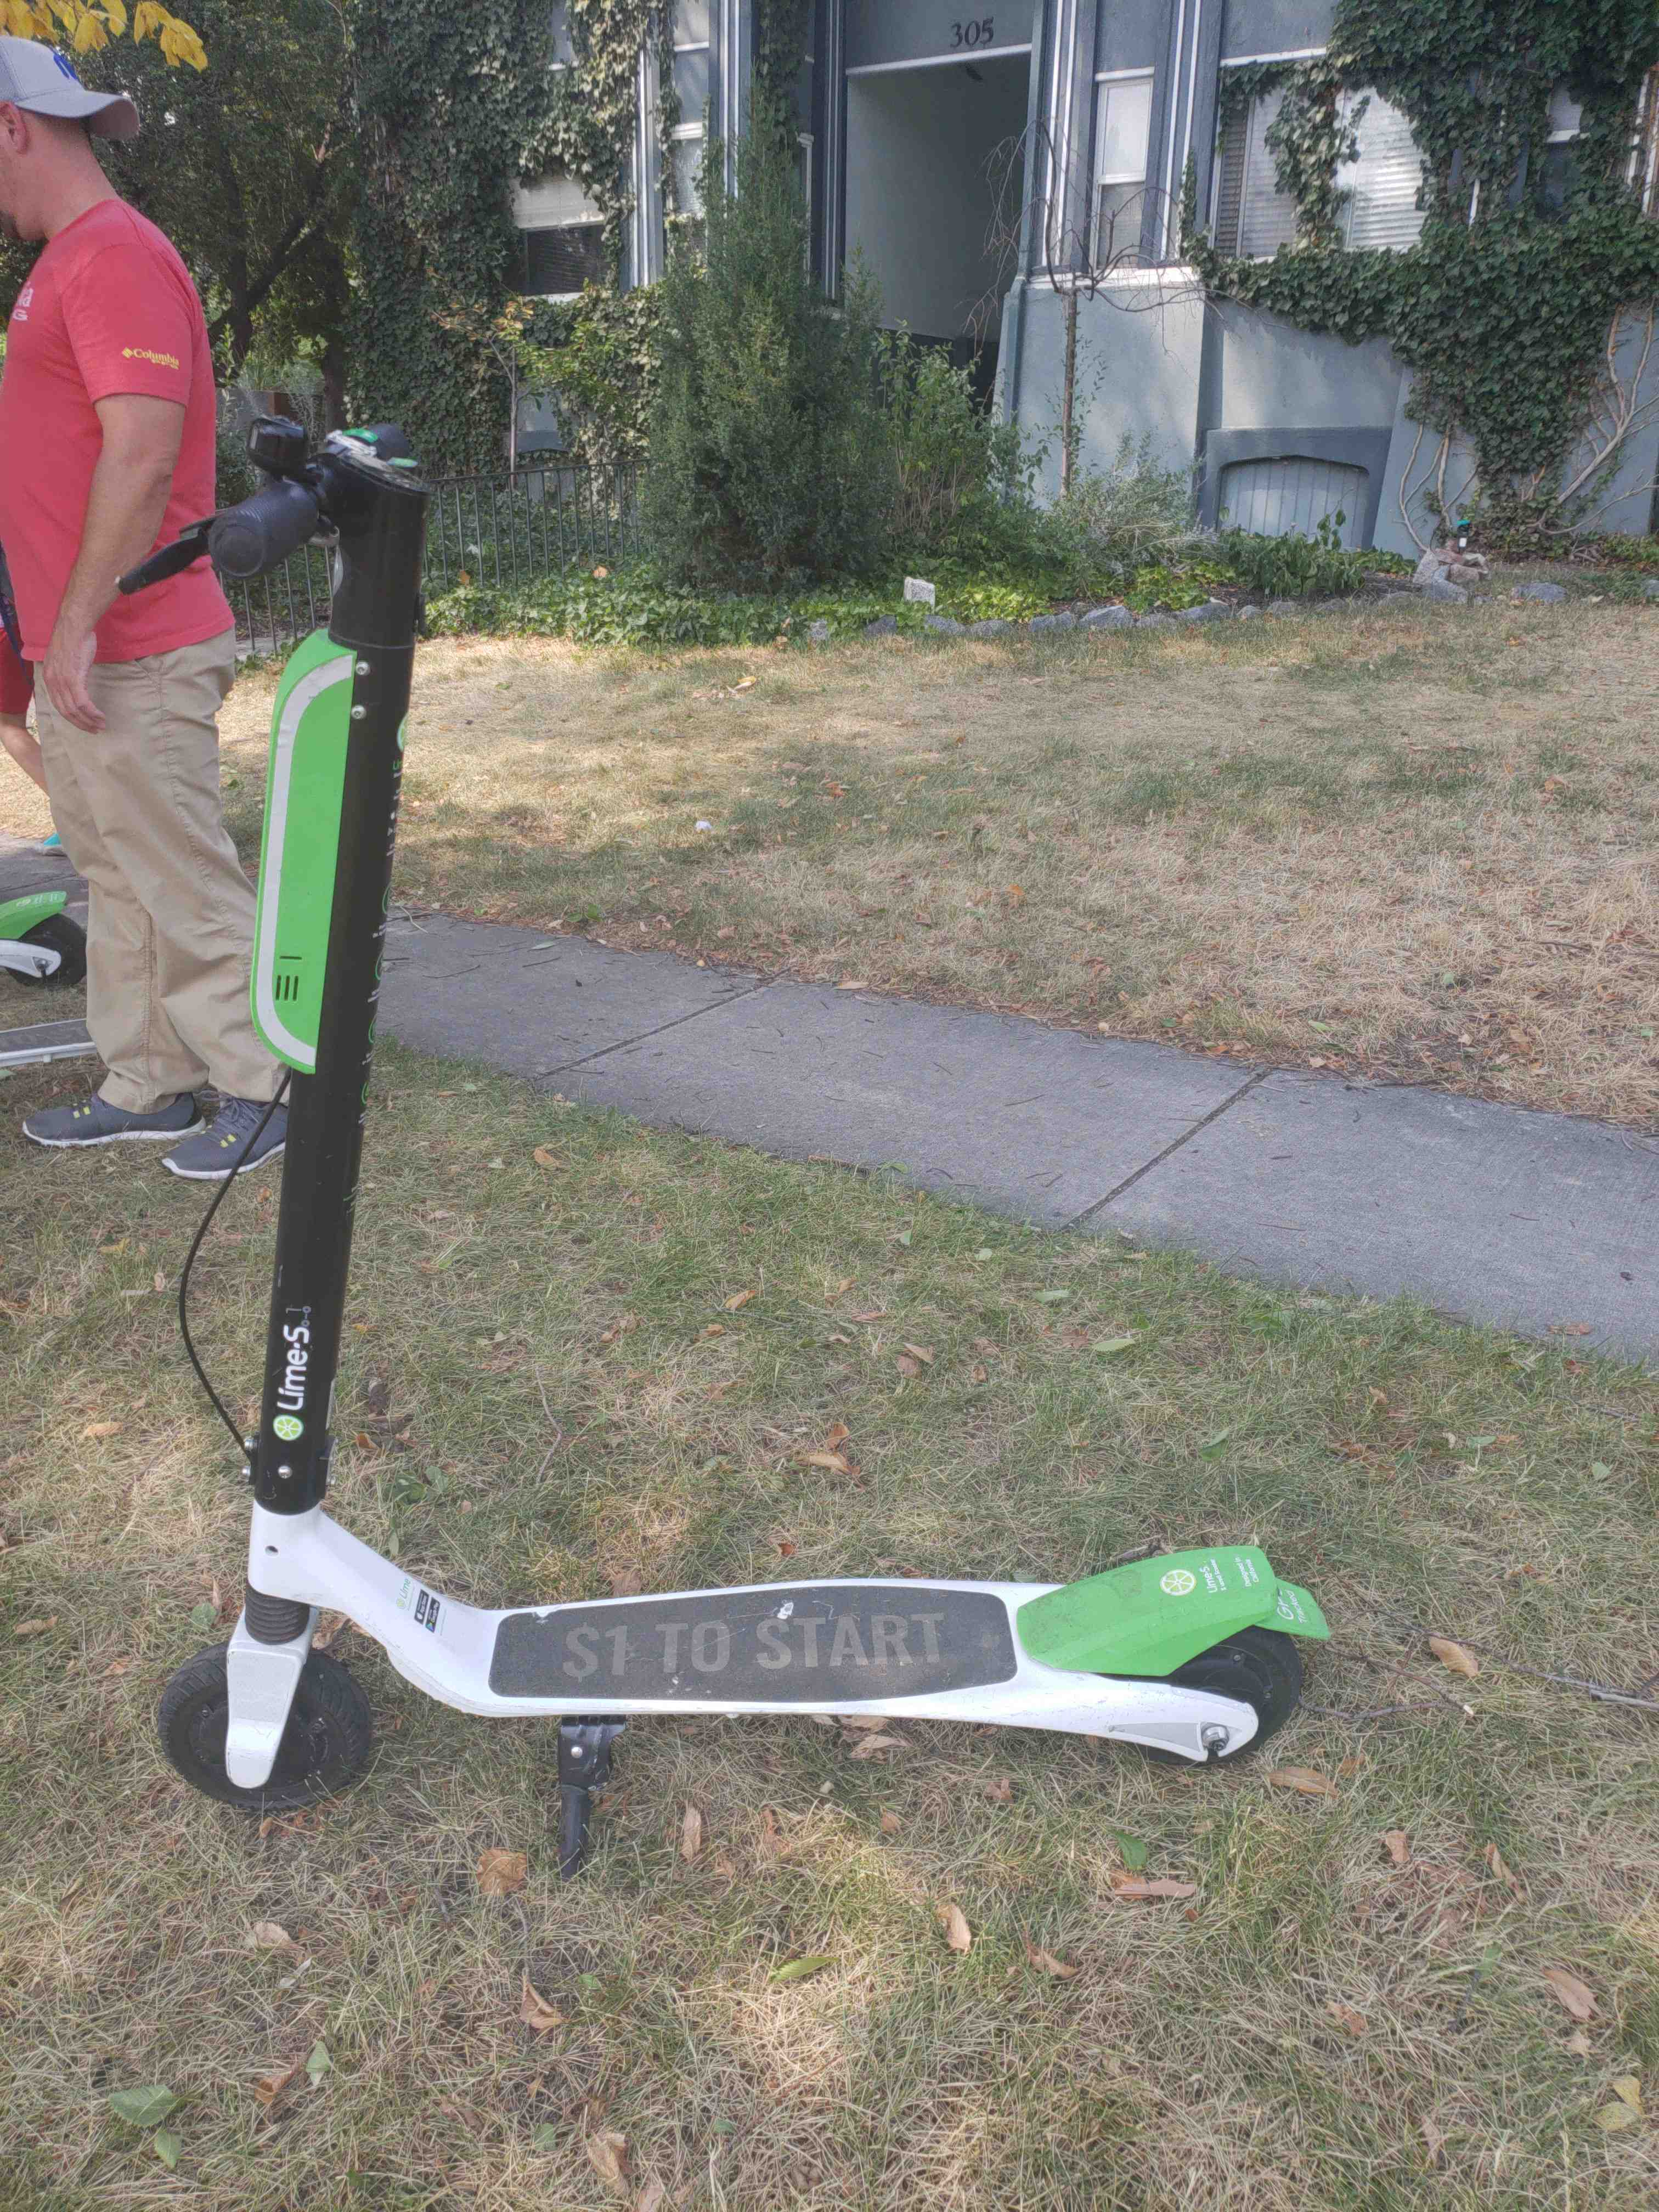scooter: (80, 406, 1326, 1832)
